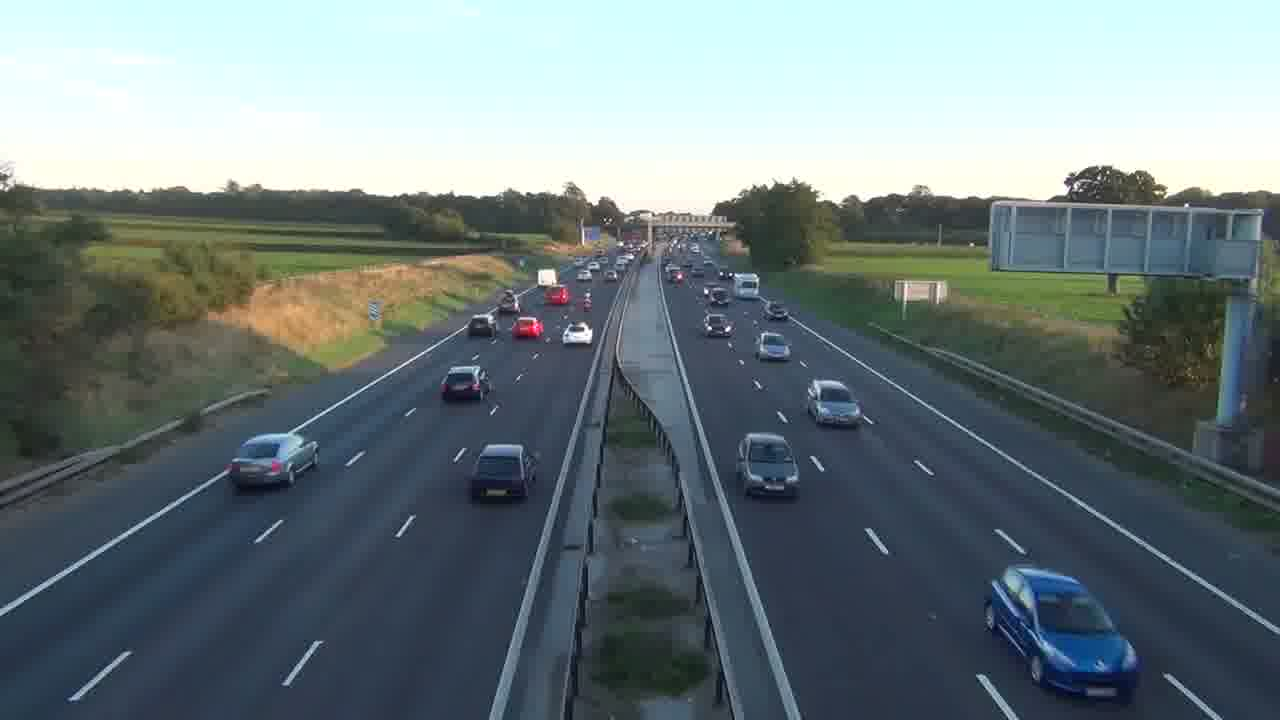car: (983, 563, 1141, 703), (228, 432, 320, 491), (468, 442, 536, 503), (804, 378, 864, 427), (440, 365, 482, 402), (755, 330, 791, 362), (511, 317, 545, 340), (562, 321, 593, 345)
truck: (734, 273, 760, 300)
